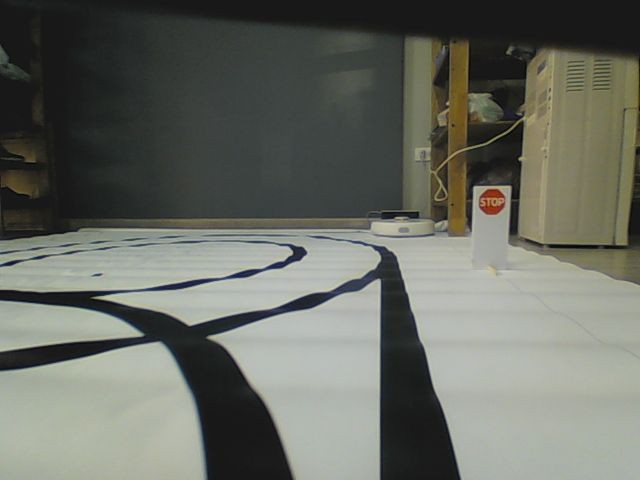Stop: (476, 189, 506, 214)
